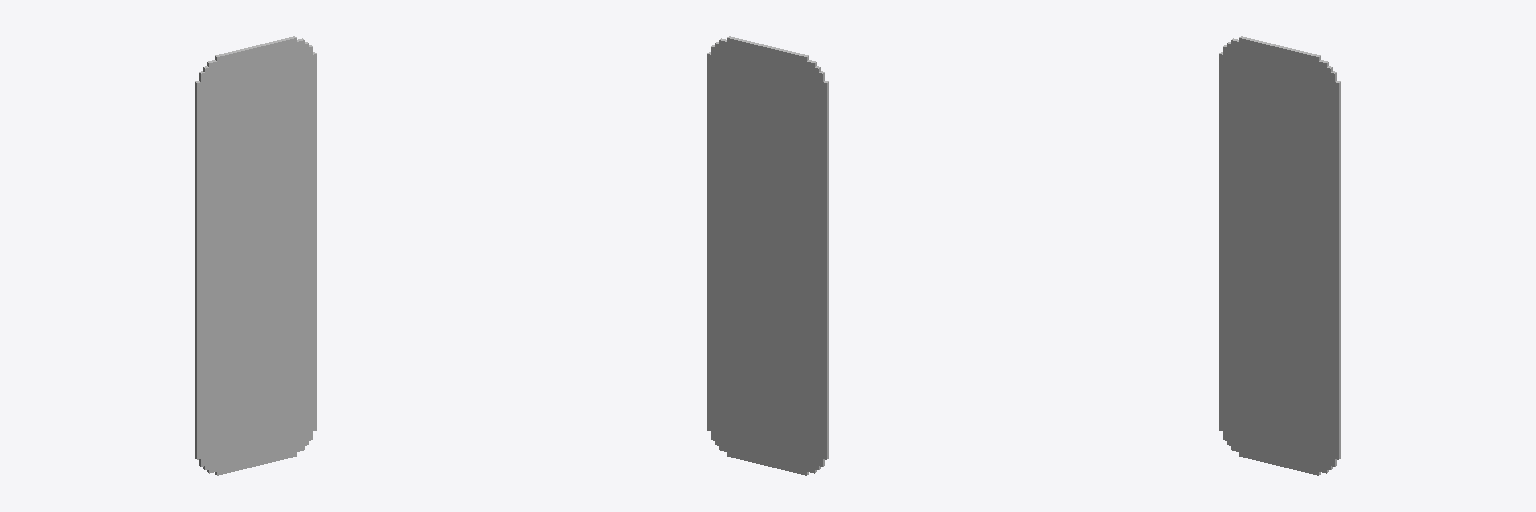
File: Bath_Shelf1.obj
3 renders of one model, left to right at view 1: azimuth 30°, elevation 25°; view 2: azimuth 150°, elevation 25°; view 3: azimuth 330°, elevation 25°, orthographic.
Visible parts, largest first — view 1: Bath_Shelf1; view 2: Bath_Shelf1; view 3: Bath_Shelf1.
Boxes of the visible parts, box(x1,y1,x2,y2) form: Bath_Shelf1: box(195, 36, 316, 475); Bath_Shelf1: box(707, 36, 828, 475); Bath_Shelf1: box(1219, 36, 1340, 475).
Bounding box in the file's own units: 30 × 100 × 1.